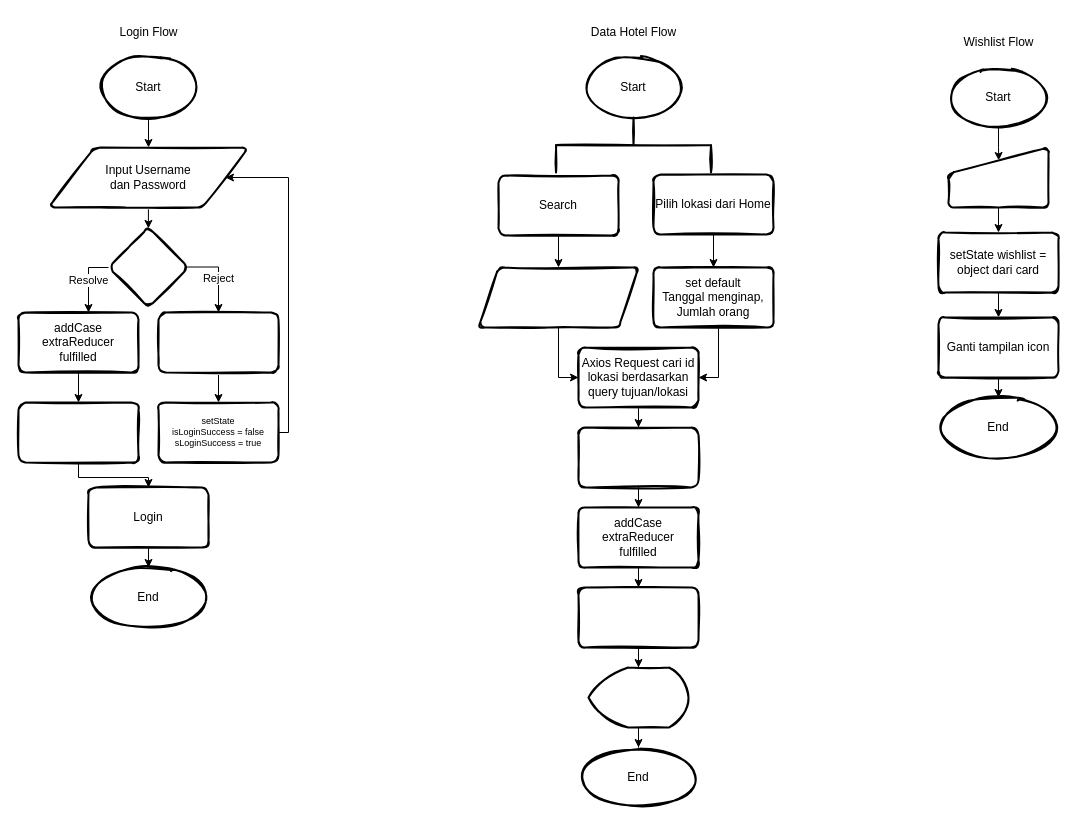
Some shapes in this 1076 by 825 pixel diagram are drawn without their labels. The shapes that lost their labels are listed below. From the top down, each one's centre as x and y in pixels, then its label:
At pixel 998 177: "Tekan Icon Heart".
At pixel 148 267: "Promise verifikasi".
At pixel 558 297: "Input Tujuan/Lokasi, Tanggal menginap, Jumlah orang".
At pixel 218 342: "addCase extraReducer rejected".
At pixel 78 432: "setState user = payload isLoginSuccess = true".
At pixel 638 457: "Axios Request cari hotel berdasarkan id lokasi".
At pixel 638 617: "setState entities = payload".
At pixel 638 697: "Tampil hasil hotel".
